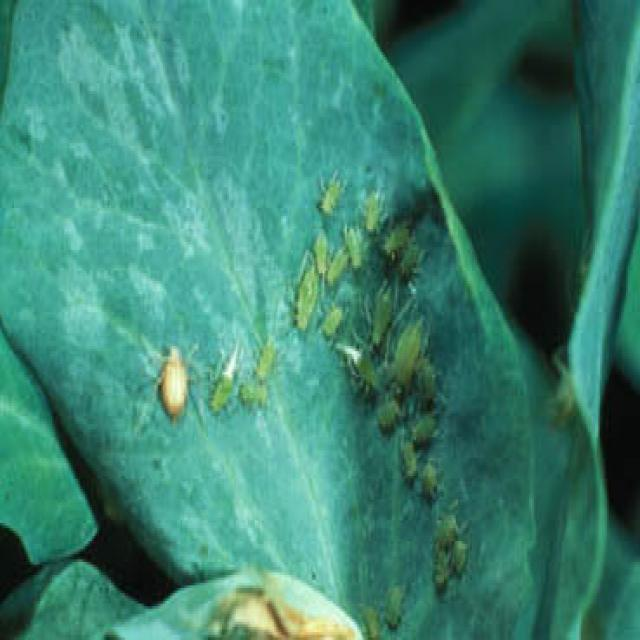Aphid-Grouped-: (302, 155, 478, 586)
Aphid-Grown-: (142, 326, 202, 429)
